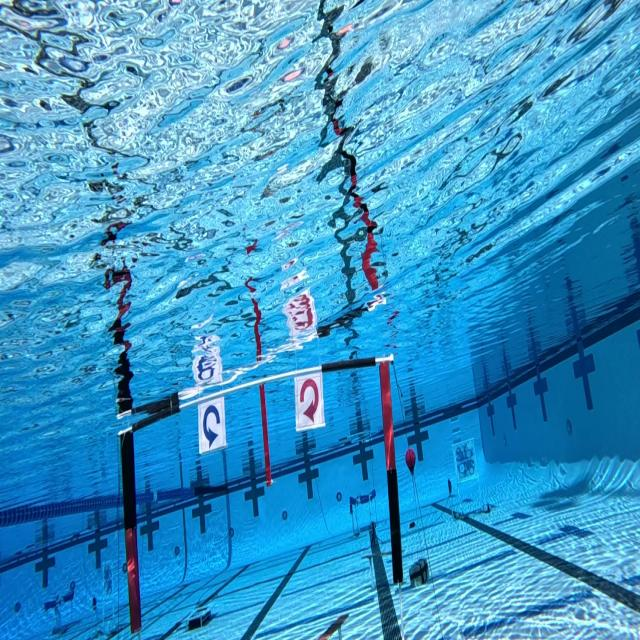blue_side: (193, 395, 231, 455)
red_side: (288, 366, 332, 435)
